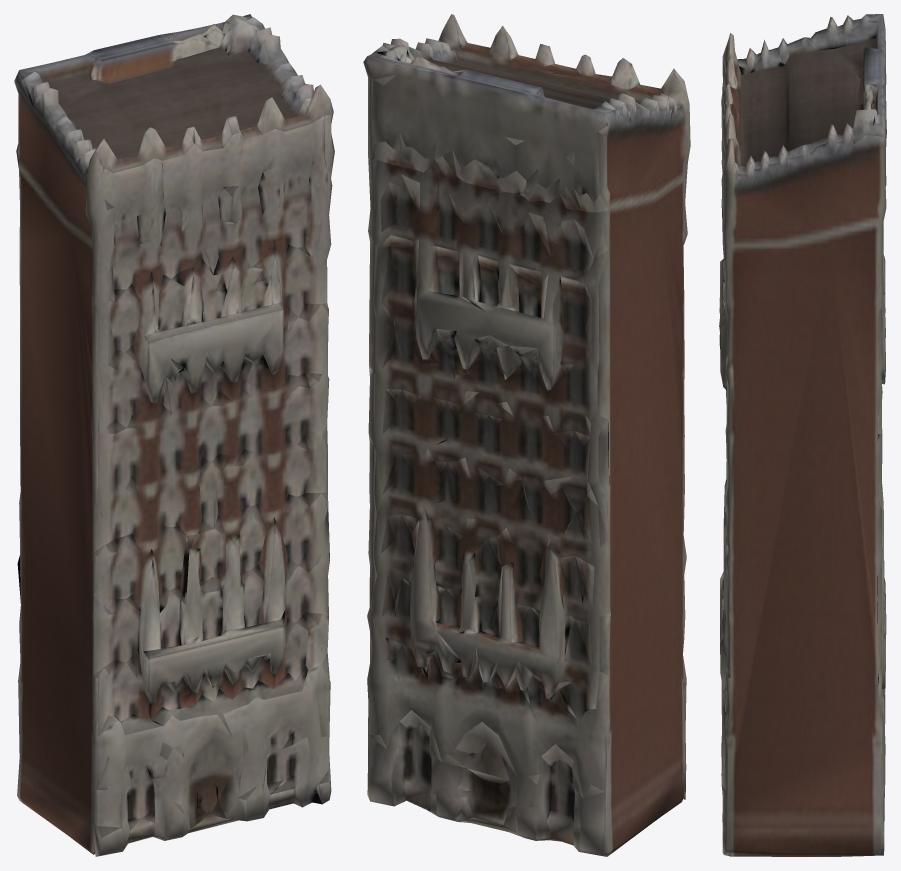
The model's file is chicago_athletic_assoc.glb.
The picture shows the model from 3 angles, left to right: view 1: azimuth 30°, elevation 25°; view 2: azimuth 150°, elevation 25°; view 3: azimuth 270°, elevation 25°; orthographic projection. The views are drawn at different scales.
Parts seen in each view (by area): view 1: chicago_athletic_assoc; view 2: chicago_athletic_assoc; view 3: chicago_athletic_assoc.
Boxes of the visible parts, bbox=[...] form: chicago_athletic_assoc: bbox=[14, 14, 334, 856]; chicago_athletic_assoc: bbox=[363, 14, 690, 856]; chicago_athletic_assoc: bbox=[719, 14, 886, 856].
Bounding box in the file's own units: 24 × 68 × 14.
Materials: 1 (1 with a texture image).
